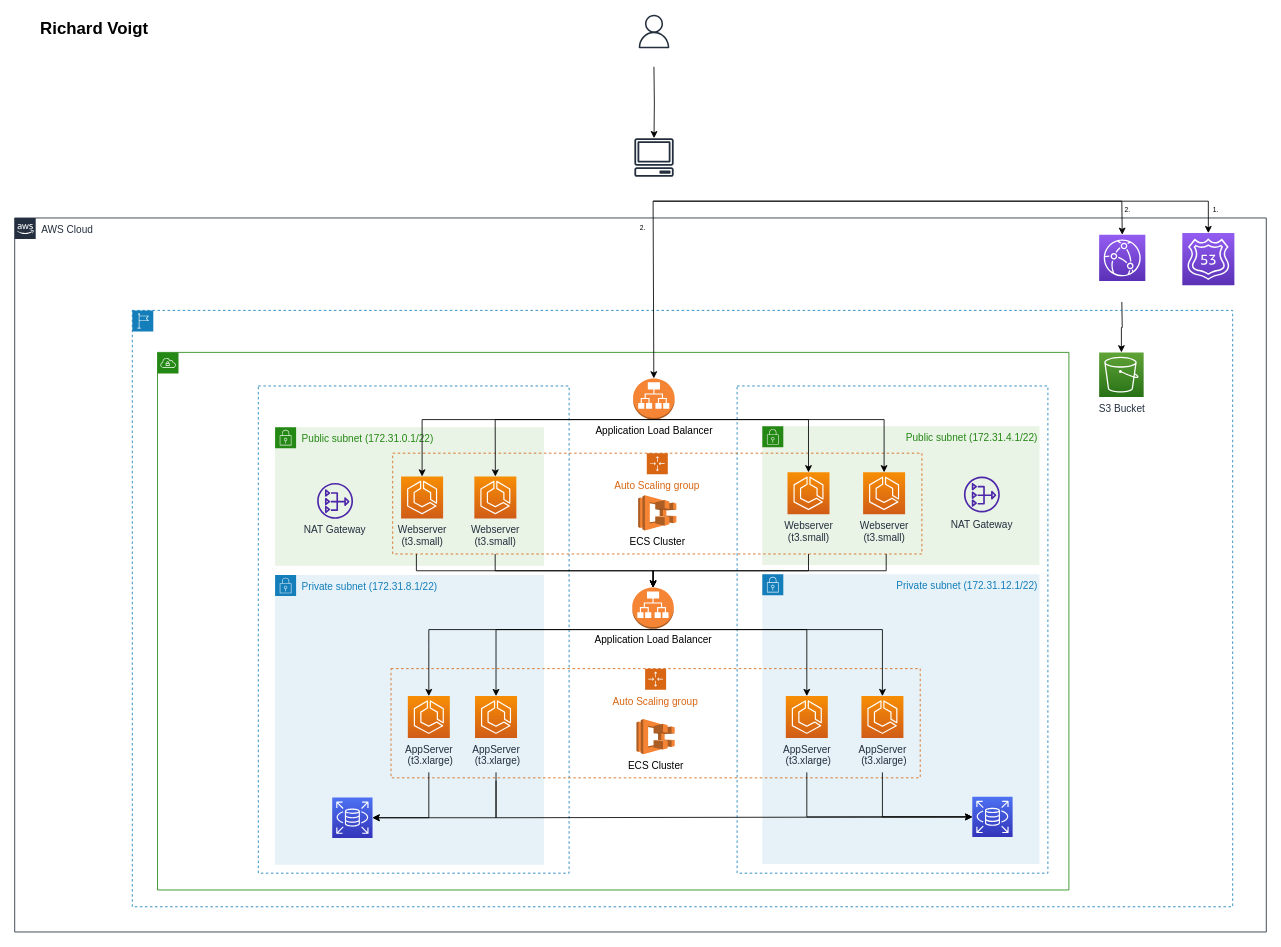
This 1281x947 diagram has some shape labels left out. The shapes that lost their labels are listed below. From the top down, each one's box as (x1, y1, x2, y2) in pixels, then its label:
(637, 14, 670, 48): User
(634, 138, 673, 176): Client
(1098, 234, 1145, 281): Cloudfront
(1181, 232, 1234, 285): Route53
(157, 352, 1069, 890): VPC 172.31.0.0/16
(131, 310, 1233, 907): Region (us-east-1)
(257, 385, 569, 873): Availability Zone (us-east-1a)
(736, 385, 1048, 873): Availability Zone (us-east-1b)
(331, 797, 373, 838): RDS Primary (db.m6i.8xlarge)
(971, 796, 1013, 837): RDS Read Replica
